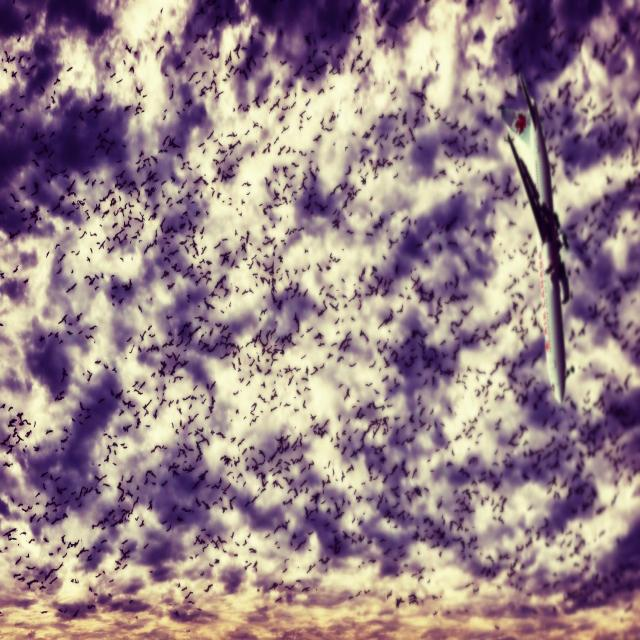airplane: (497, 72, 571, 404)
